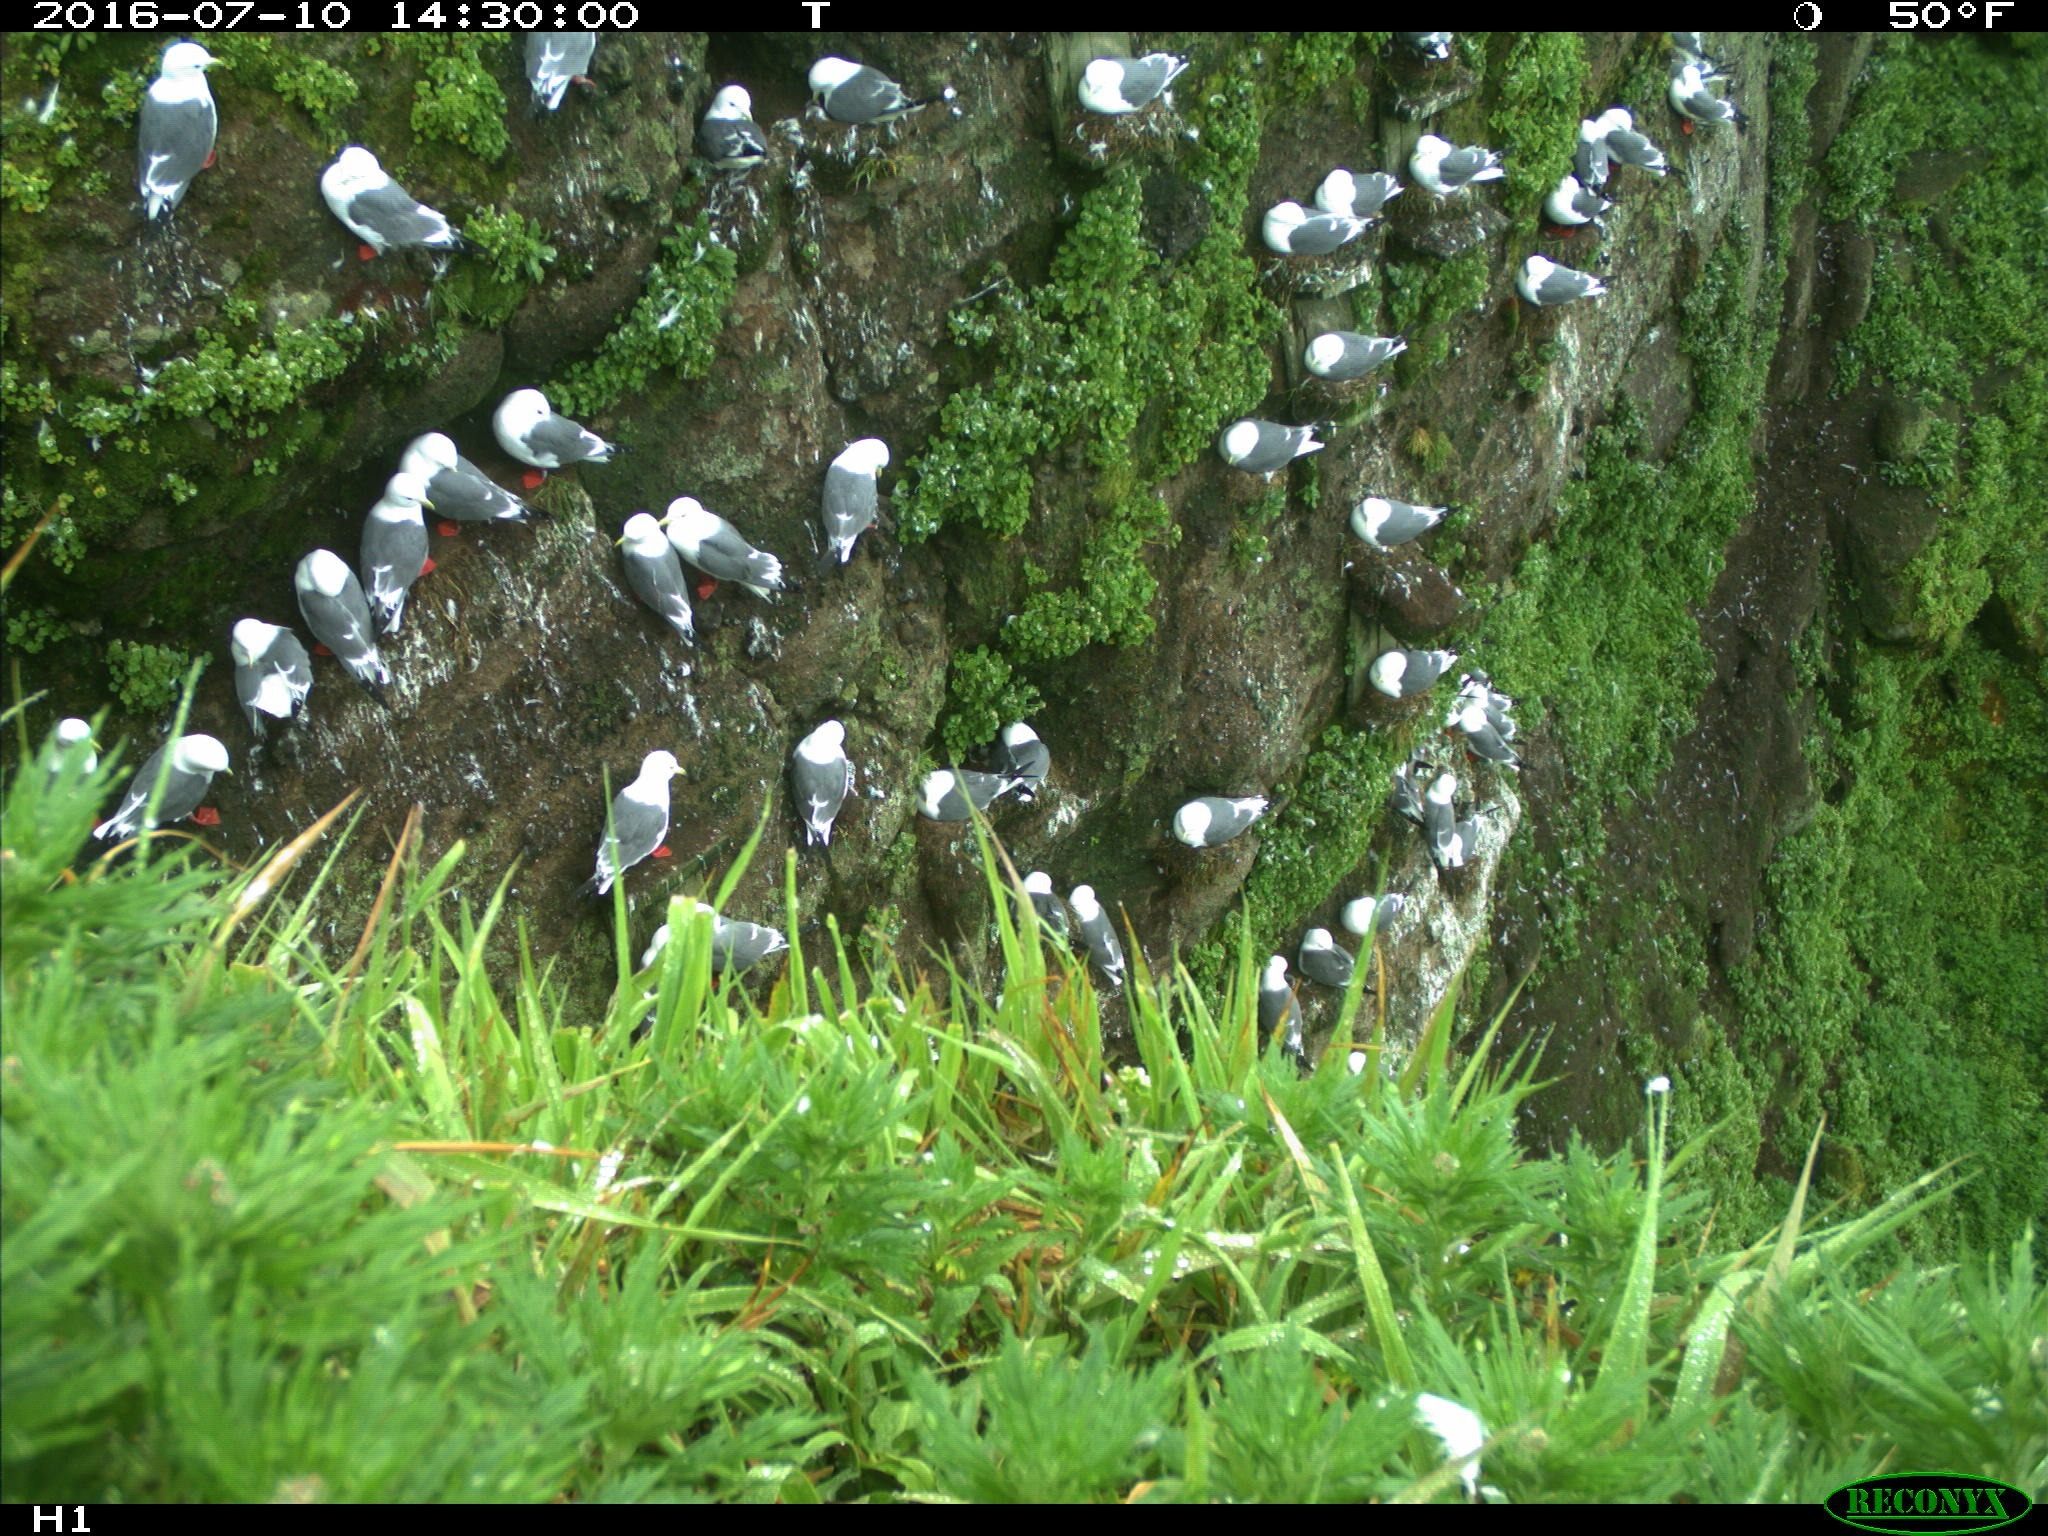Kittiwake: (116, 31, 252, 232), (456, 337, 632, 492), (311, 131, 476, 266), (377, 416, 543, 544), (582, 737, 698, 913), (666, 473, 803, 616), (282, 534, 403, 687), (216, 595, 332, 750), (90, 728, 239, 849), (595, 495, 700, 665), (353, 461, 453, 634), (810, 411, 901, 586), (797, 47, 959, 140), (668, 876, 795, 991), (777, 699, 860, 855), (1206, 400, 1342, 494), (687, 60, 779, 195), (903, 741, 1043, 828), (1064, 40, 1205, 124), (29, 691, 132, 800), (508, 11, 611, 118), (1158, 774, 1284, 858), (1400, 124, 1517, 211), (1293, 315, 1417, 395), (1343, 484, 1471, 561), (1247, 934, 1314, 1076), (1066, 857, 1134, 999), (1508, 239, 1614, 323), (1258, 198, 1380, 271), (1288, 913, 1385, 1005), (1305, 153, 1421, 229), (1655, 52, 1746, 145), (1355, 636, 1471, 707), (992, 695, 1064, 808), (1584, 100, 1684, 181), (1001, 847, 1066, 954), (1329, 871, 1421, 939), (1534, 166, 1621, 237), (1455, 705, 1538, 774), (1376, 750, 1442, 837), (1442, 687, 1538, 744), (1558, 98, 1617, 189), (1435, 800, 1500, 876), (1422, 750, 1463, 871), (1643, 24, 1734, 68), (1405, 24, 1472, 68), (1450, 671, 1534, 705)
